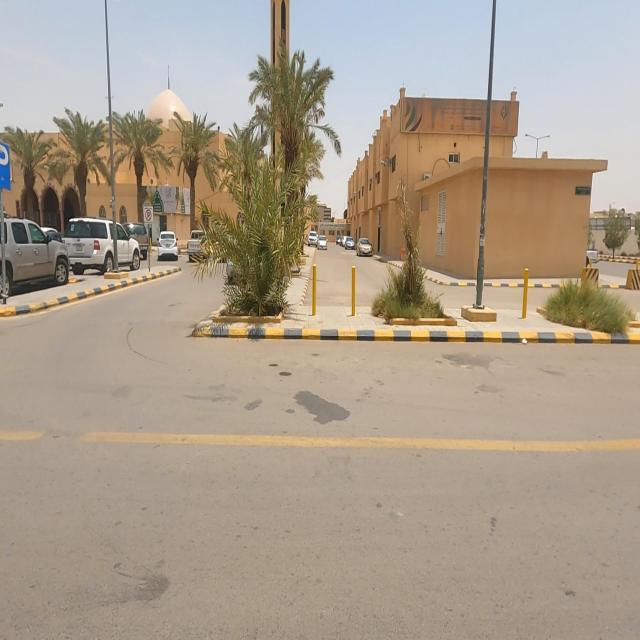debris: (337, 48, 585, 175)
